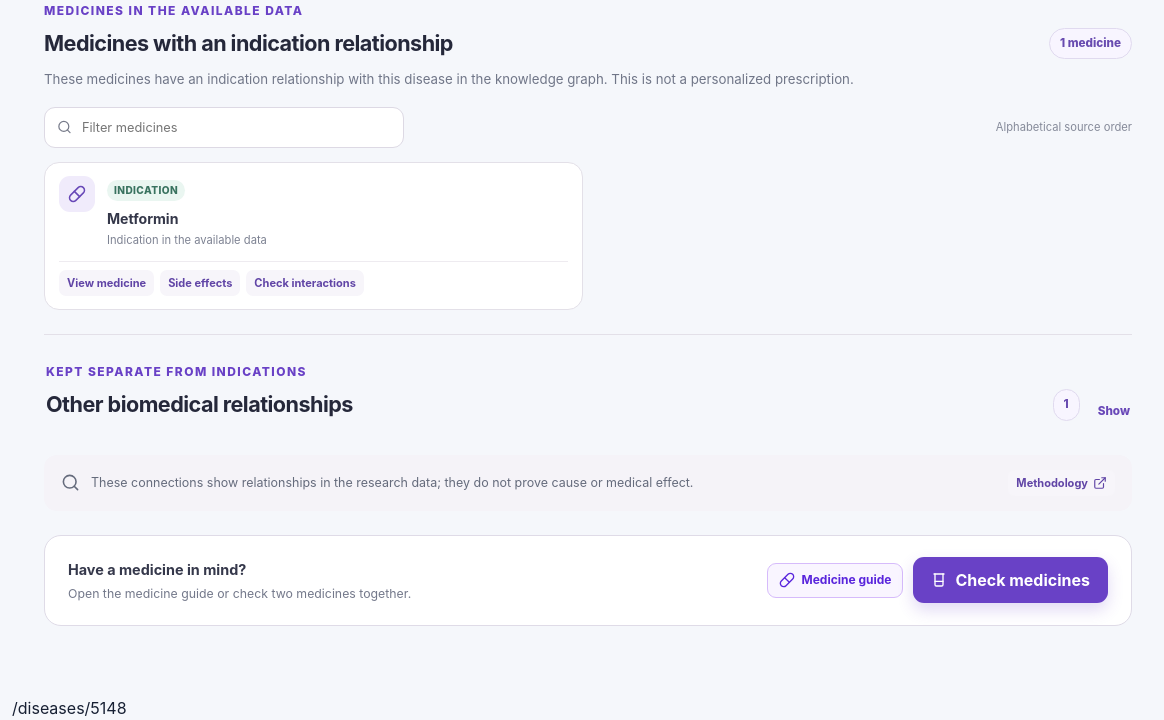
it: DiseaseGuide › separates indications from contraindication and other relationships
(page scrolled)
Expected: the heading "Metformin" is shown, [107, 210, 178, 227]
Expected: the text "Warfarin" is not shown
Click the heading "Other biomedical relationships": {"x": 176, "y": 372} [46, 364, 1080, 421]
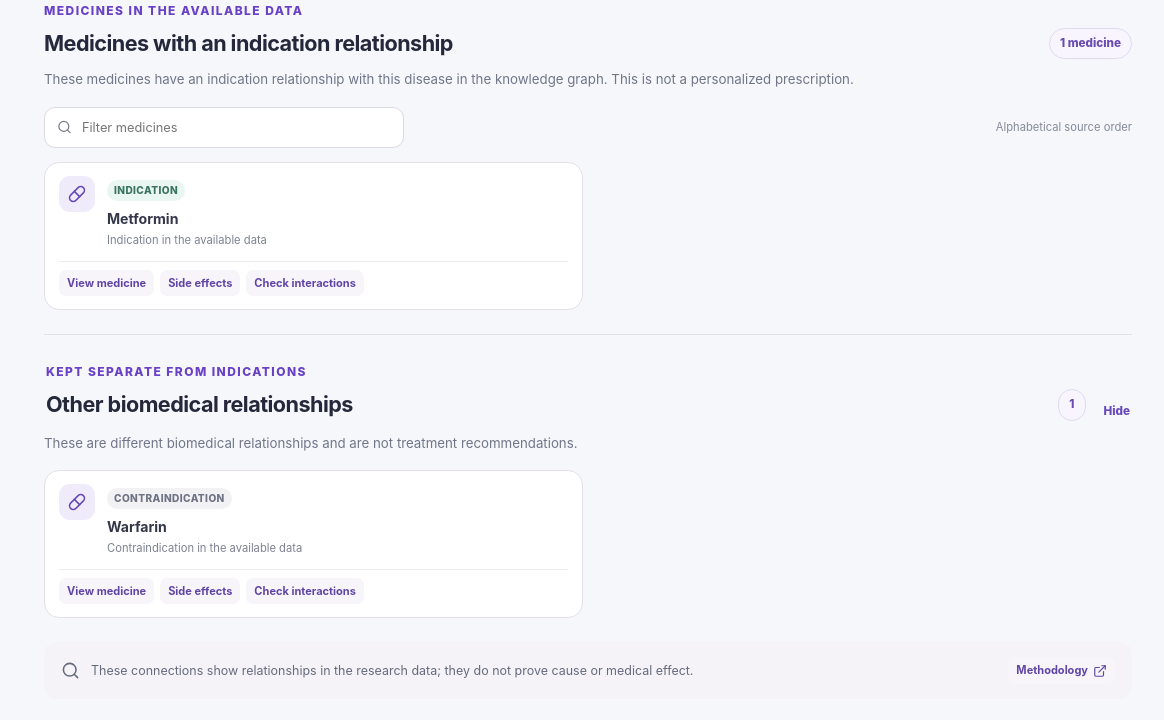
Expected: the heading "Warfarin" is shown, [107, 518, 167, 535]
Expected: the text "Contraindication" is shown, [107, 488, 232, 509]
